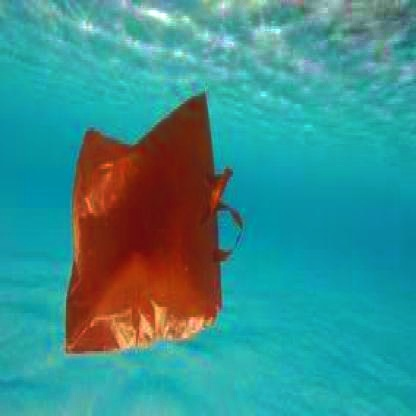pbag: (64, 89, 244, 357)
